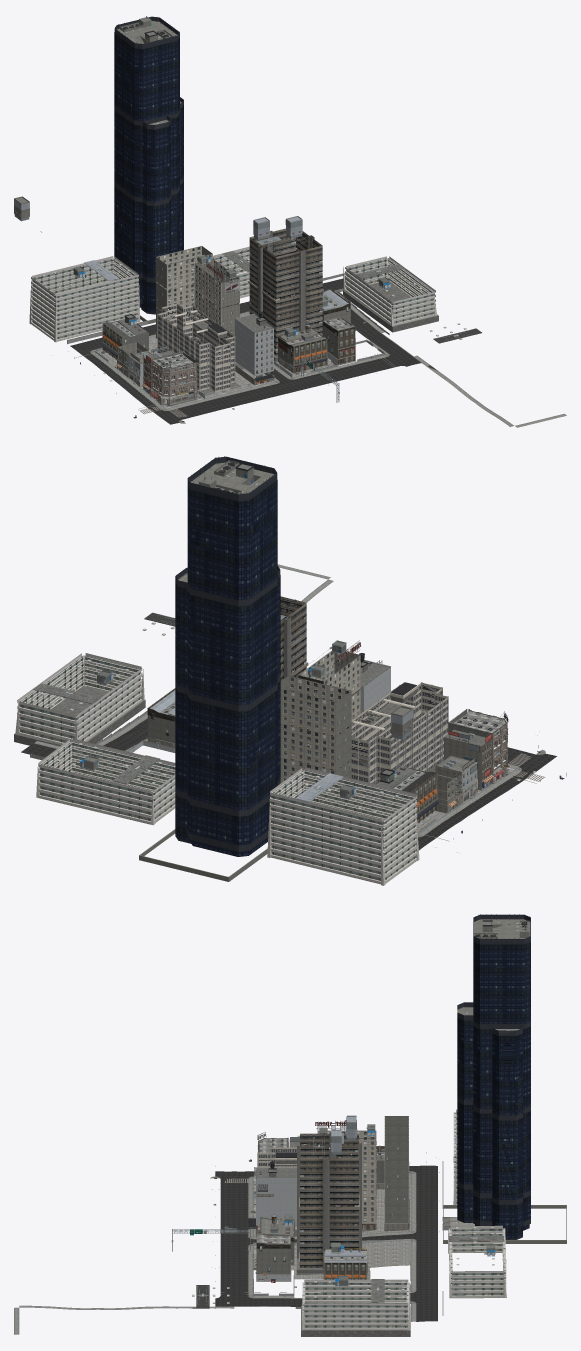
The model's file is block-citya-2.glb.
The picture shows the model from 3 angles, top to bottom: view 1: azimuth 30°, elevation 25°; view 2: azimuth 150°, elevation 25°; view 3: azimuth 270°, elevation 25°; orthographic projection. The views are drawn at different scales.
Parts seen in each view (by area): view 1: Object_18, Object_143, Object_68, Object_6, Object_94, Object_170, Object_204, Object_217, Object_148, Object_119, Object_231, Object_79 (+9 smaller); view 2: Object_18, Object_143, Object_217, Object_170, Object_204, Object_94, Object_79, Object_6, Object_148, Object_68, Object_119, Object_231 (+7 smaller); view 3: Object_18, Object_143, Object_6, Object_68, Object_204, Object_94, Object_79, Object_58, Object_231, Object_119, Object_217, Object_154 (+7 smaller).
Part boxes in pixels (x1,y1,x2,y2): Object_18: (114, 34, 183, 312); Object_143: (29, 246, 437, 342); Object_68: (248, 228, 323, 362); Object_6: (70, 278, 421, 424); Object_94: (68, 251, 438, 406); Object_170: (157, 303, 235, 392); Object_204: (14, 17, 355, 390); Object_217: (156, 246, 239, 331); Object_148: (102, 257, 350, 403); Object_119: (94, 313, 347, 398); Object_231: (91, 288, 566, 427); Object_79: (101, 16, 351, 366); Object_18: (175, 480, 280, 856); Object_143: (15, 653, 419, 885); Object_217: (280, 650, 360, 782); Object_170: (350, 682, 448, 783); Object_204: (84, 460, 483, 881); Object_94: (14, 640, 508, 832); Object_79: (146, 456, 438, 851); Object_6: (21, 718, 556, 850); Object_148: (147, 651, 505, 813); Object_68: (280, 596, 308, 680); Object_119: (128, 661, 477, 834); Object_231: (34, 564, 520, 835); Object_18: (457, 942, 530, 1238); Object_143: (302, 1109, 506, 1330); Object_6: (215, 1165, 437, 1321); Object_68: (296, 1132, 362, 1279); Object_204: (255, 919, 566, 1281); Object_94: (253, 1124, 504, 1336); Object_79: (457, 914, 530, 1239); Object_58: (253, 1173, 474, 1279); Object_231: (14, 1171, 416, 1334); Object_119: (253, 1167, 411, 1290); Object_217: (318, 1116, 408, 1223); Object_154: (172, 1117, 495, 1291).
Bounding box in the file's own units: 53.68 × 43.63 × 70.
Materials: 61 (60 with a texture image).
